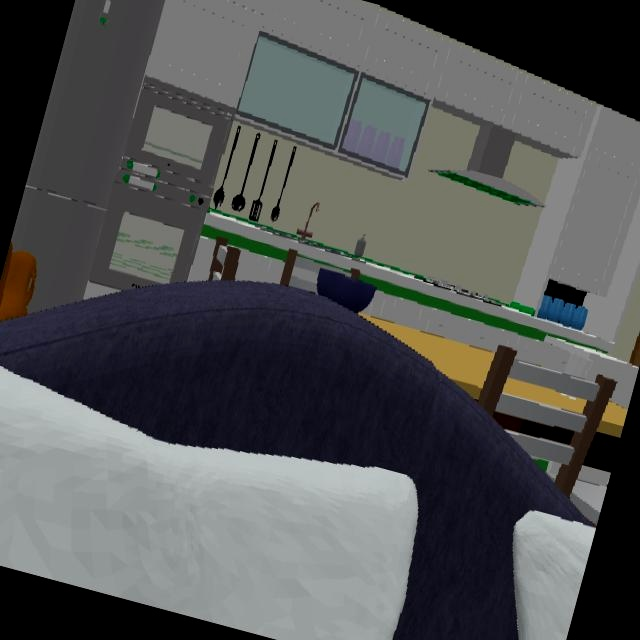cabinet: (146, 0, 640, 339)
chair: (479, 346, 615, 497)
fridge: (10, 0, 163, 311)
microwave: (124, 84, 231, 186)
oven: (89, 171, 208, 289)
pillow: (0, 370, 417, 640)
sofa: (0, 280, 584, 640)
